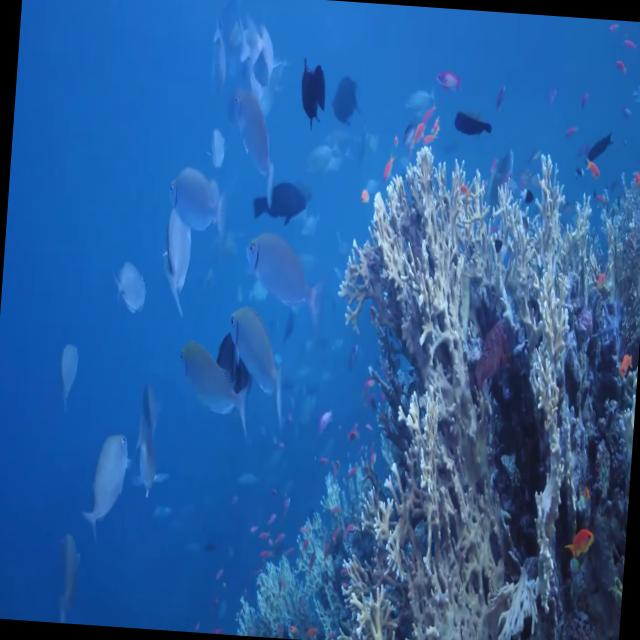fish: (172, 337, 255, 448), (222, 300, 296, 422), (238, 223, 332, 317), (226, 72, 284, 210), (77, 418, 136, 550), (160, 154, 232, 252), (121, 372, 173, 497), (154, 201, 198, 317), (238, 175, 310, 241), (289, 44, 333, 144), (48, 514, 88, 624), (101, 250, 156, 328), (56, 318, 90, 408), (324, 61, 364, 136), (444, 99, 501, 150), (561, 511, 599, 568), (582, 118, 623, 170), (203, 118, 237, 176), (432, 50, 468, 96)
